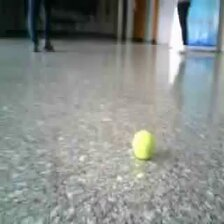tennis: (132, 130, 158, 161)
